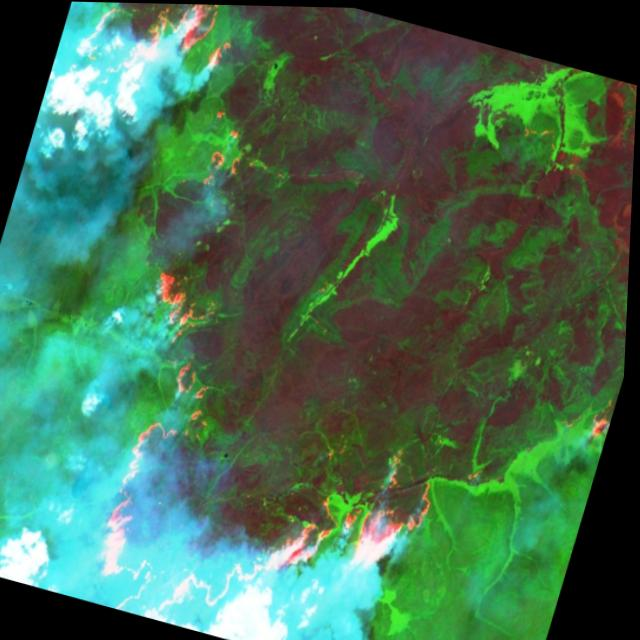fire: (80, 345, 461, 640), (58, 1, 248, 81), (135, 245, 219, 350), (187, 96, 264, 201)
